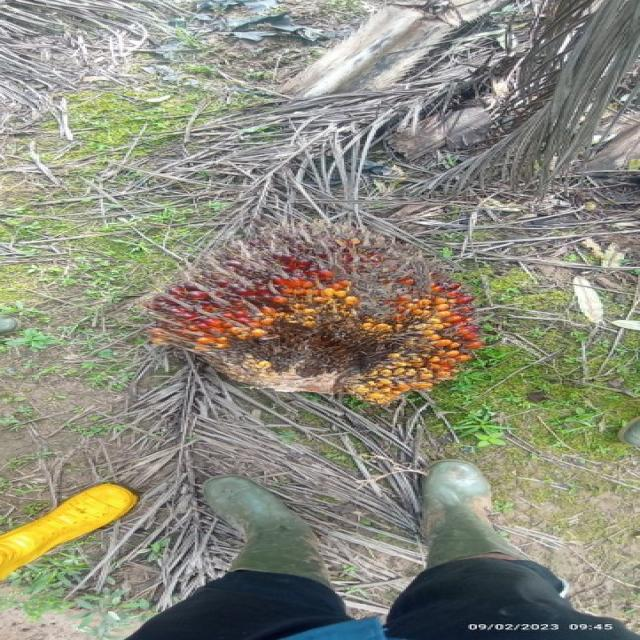fraksi 3: (128, 182, 502, 432)
